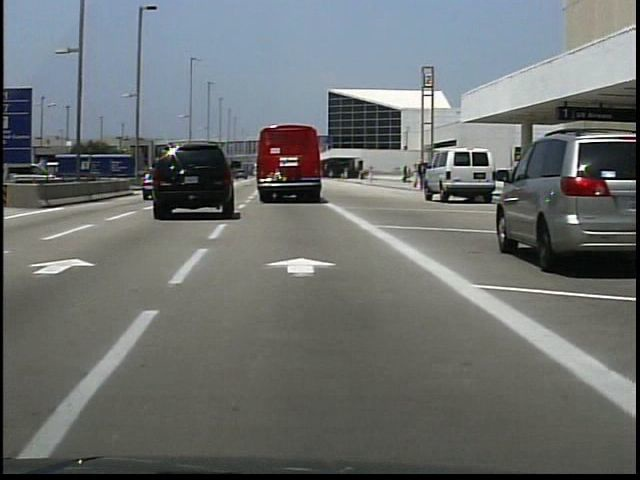person: (417, 160, 427, 194)
